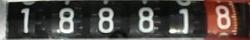digits: (97, 7, 114, 32), (58, 7, 74, 33), (215, 4, 231, 29), (138, 7, 154, 32), (178, 8, 190, 34), (20, 7, 29, 32)
